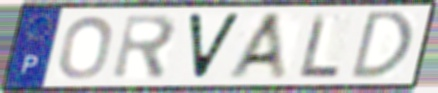A: (224, 10, 291, 82)
D: (347, 9, 416, 82)
L: (298, 11, 343, 80)
O: (57, 14, 116, 81)
R: (109, 12, 180, 82)
V: (184, 11, 245, 82)
